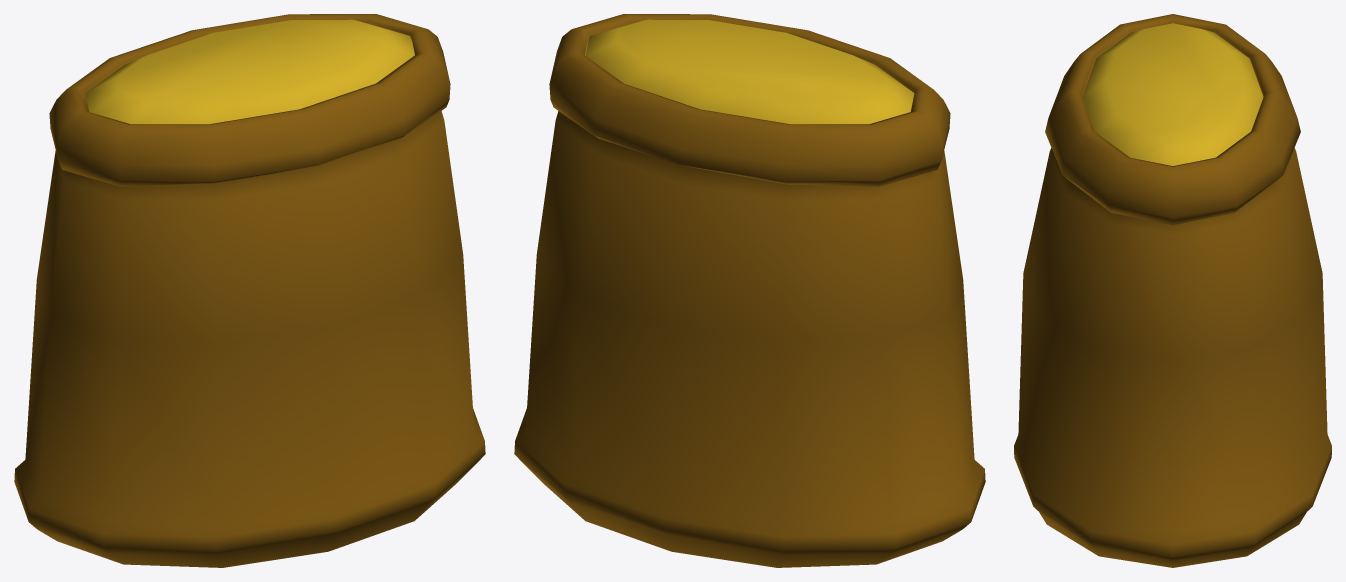
Rendered from SeedBag.fbx.
3 views of the same model, side by side, from view 1: azimuth 30°, elevation 25°; view 2: azimuth 150°, elevation 25°; view 3: azimuth 270°, elevation 25° (orthographic). The views are drawn at different scales.
Visible parts, largest first — view 1: Cube; view 2: Cube; view 3: Cube.
Boxes of the visible parts, <box> form: Cube: <box>14,14,485,567</box>; Cube: <box>514,14,985,567</box>; Cube: <box>1014,14,1331,567</box>.
Size of the model in its own units: 58.99 by 55.34 by 39.89.
